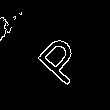P_NW: (24, 24, 86, 86)
